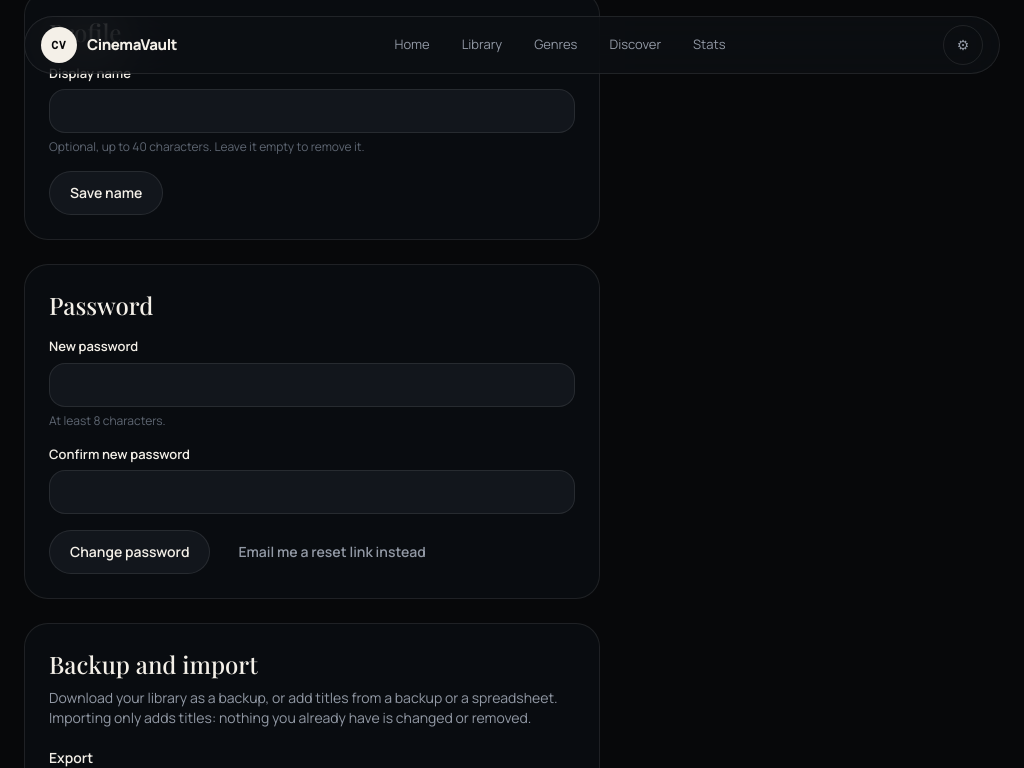
Test: password › shows the server’s reason when the change fails and does not claim success
(page scrolled)
Type "brand-new-pw-9" into the password field labelled "New password" at (312, 384), box x1=49 y1=362 x2=575 y2=406
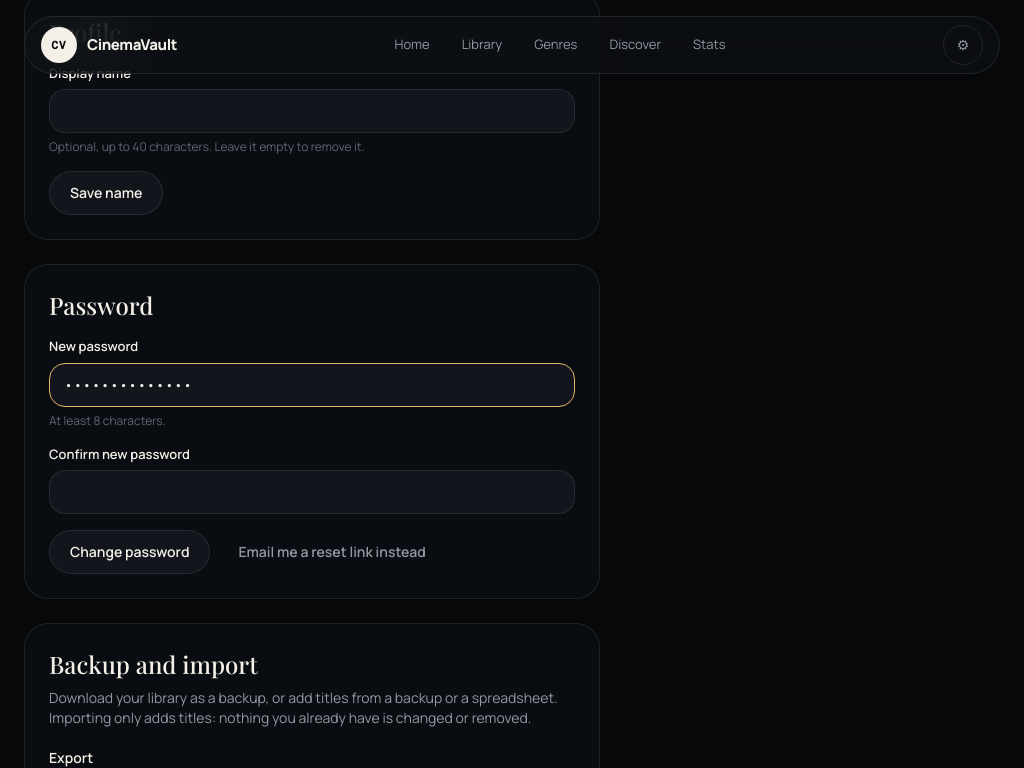
Type "brand-new-pw-9" into the password field labelled "Confirm new password" at (312, 492), box x1=49 y1=470 x2=575 y2=514
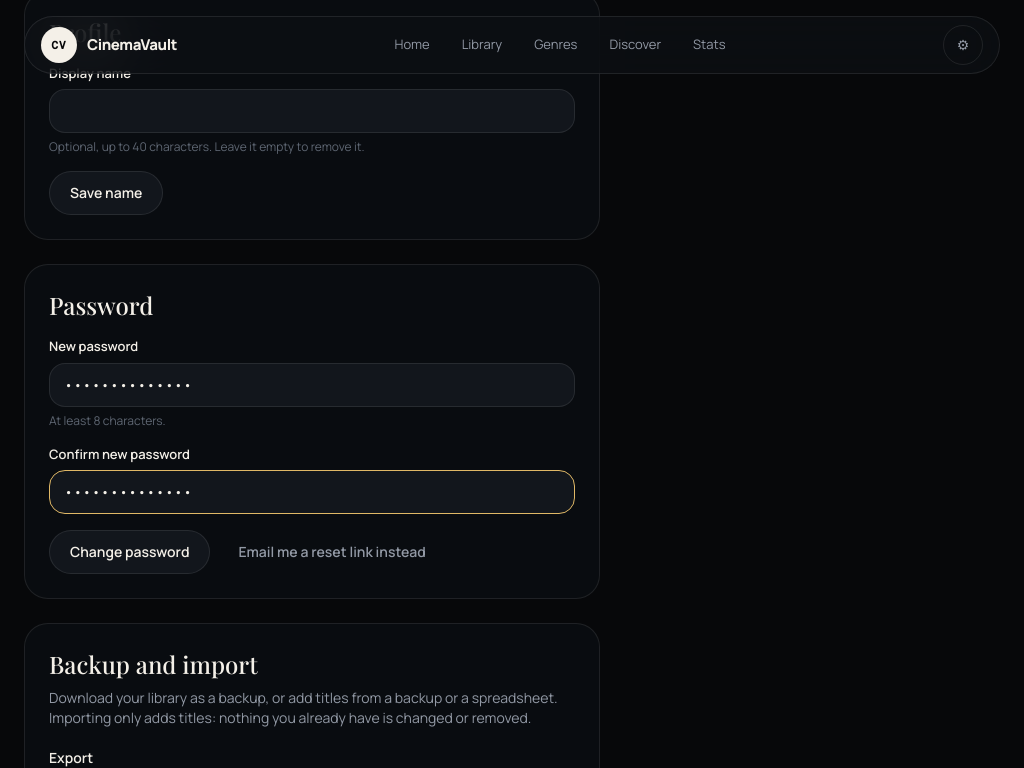
Click the button "Change password" at (130, 552), box x1=49 y1=530 x2=210 y2=574
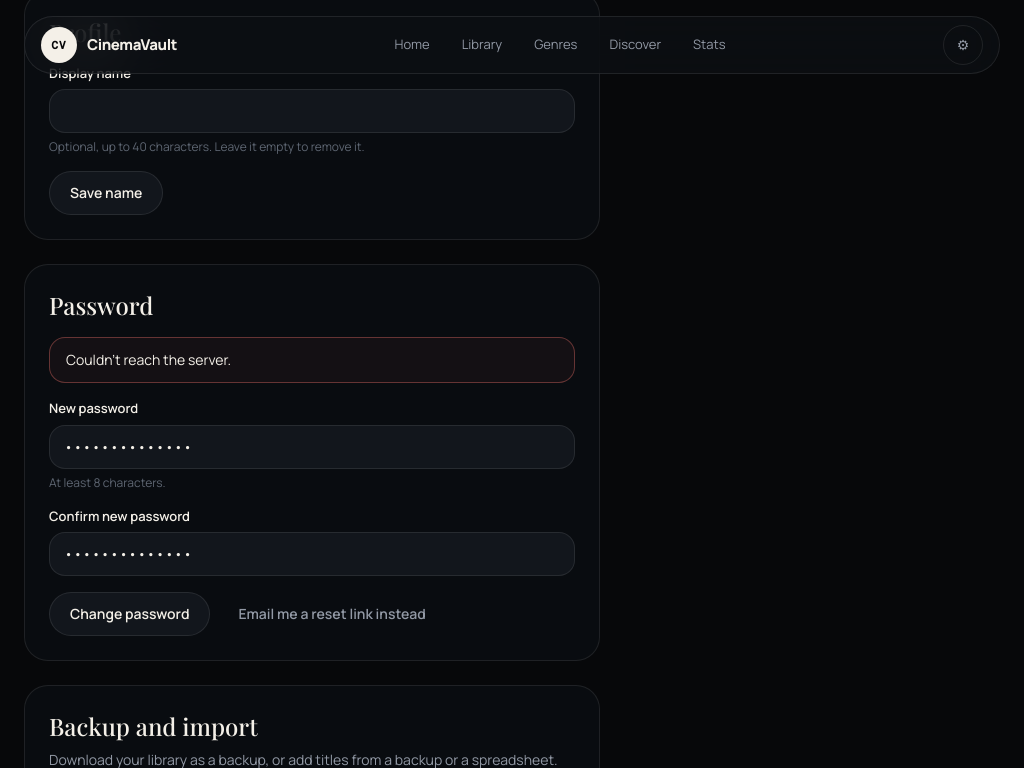
Expected: the message reads "Couldn’t reach the server.", x1=66 y1=350 x2=231 y2=369
